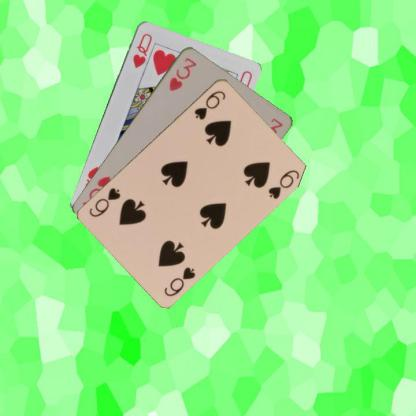3h: (166, 54, 198, 92)
6s: (191, 88, 227, 122), (161, 264, 197, 298)
Qh: (130, 30, 153, 69)
